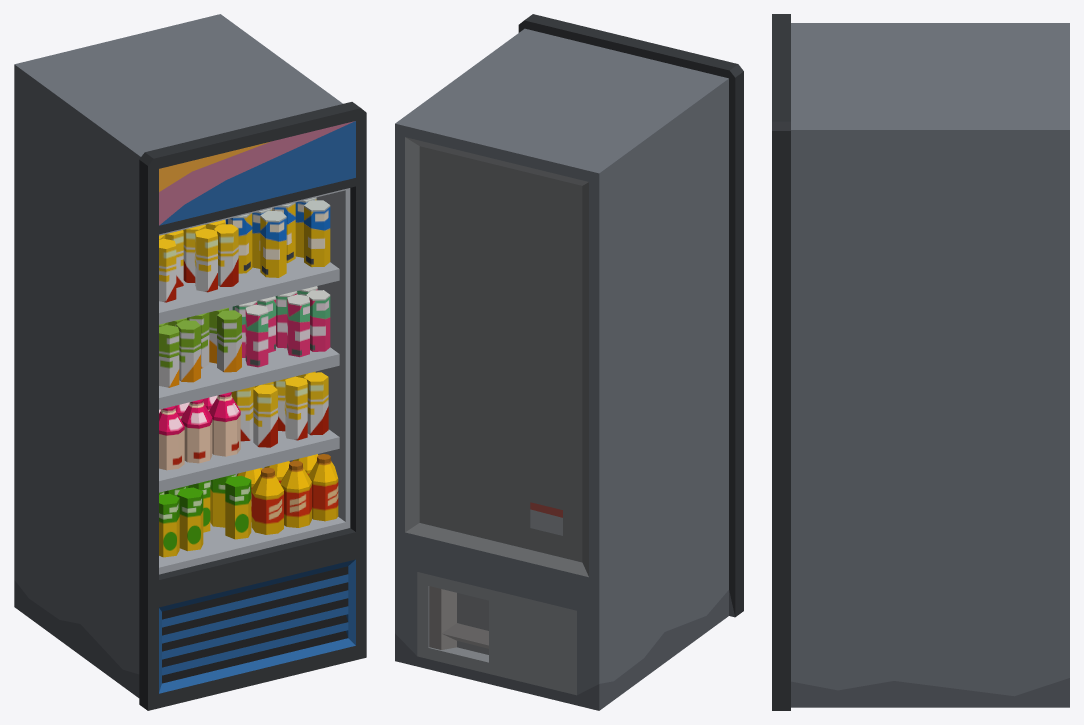
File: Drinks_Fridge.fbx
The picture shows the model from 3 angles, left to right: view 1: azimuth 30°, elevation 25°; view 2: azimuth 150°, elevation 25°; view 3: azimuth 270°, elevation 25°; orthographic projection. The views are drawn at different scales.
Parts seen in each view (by area): view 1: Drinks_Fridge; view 2: Drinks_Fridge; view 3: Drinks_Fridge.
Part boxes in pixels (left/top/right/bottom): Drinks_Fridge: left=14, top=14, right=366, bottom=710; Drinks_Fridge: left=395, top=14, right=743, bottom=710; Drinks_Fridge: left=772, top=14, right=1069, bottom=710.
Bounding box in the file's own units: 94.99 × 229 × 105.
Materials: 1 (1 with a texture image).
